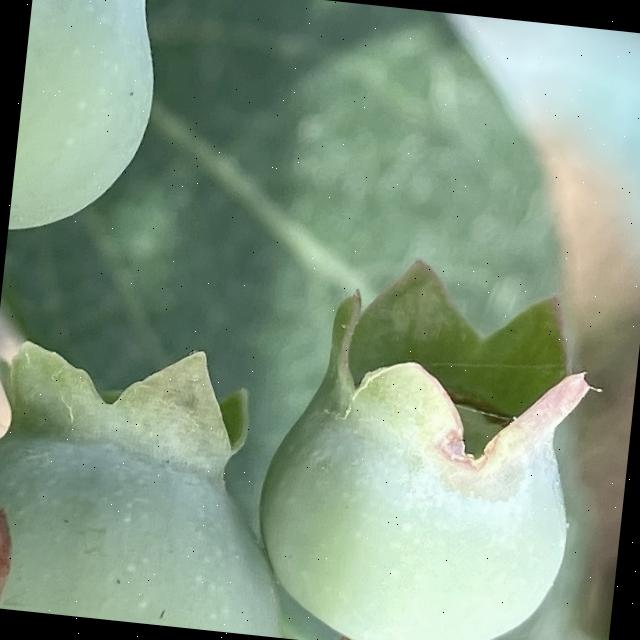Blueberries: (0, 316, 330, 639)
